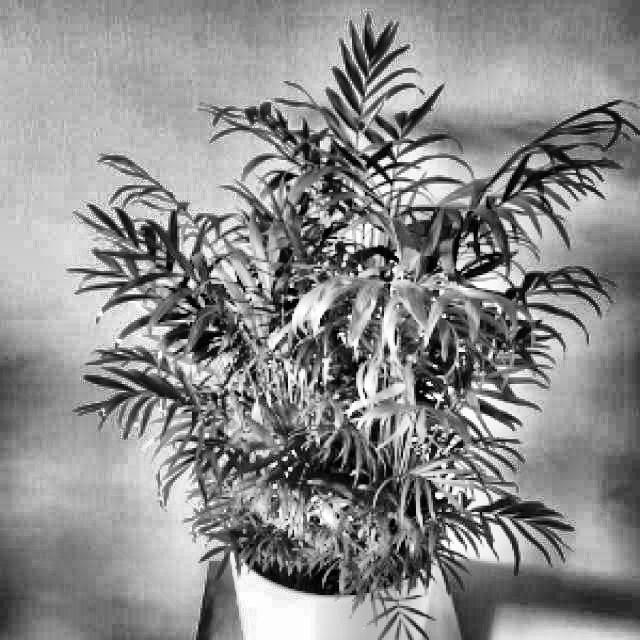plants: (64, 39, 596, 626)
